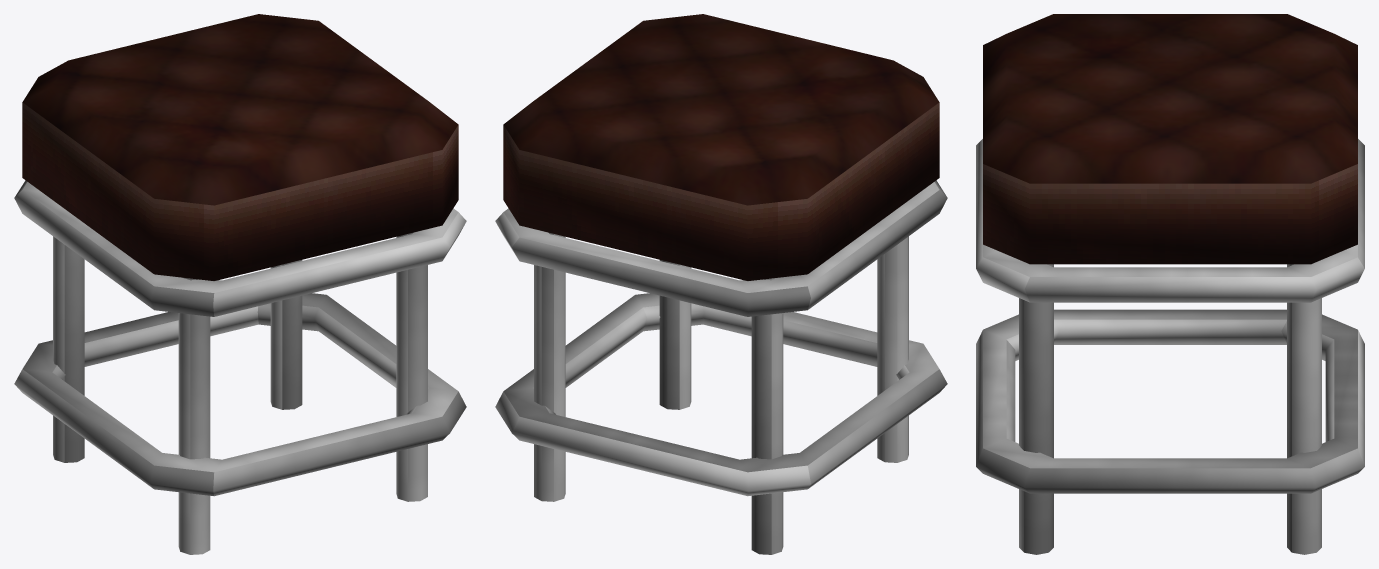
Rendered from Stool1.obj.
The picture shows the model from 3 angles, left to right: view 1: azimuth 30°, elevation 25°; view 2: azimuth 150°, elevation 25°; view 3: azimuth 270°, elevation 25°; orthographic projection. The views are drawn at different scales.
Visible parts, largest first — view 1: Stool1_SELECT.002; view 2: Stool1_SELECT.002; view 3: Stool1_SELECT.002.
Part boxes in pixels (x1=…): Stool1_SELECT.002: x1=14, y1=14, x2=466, y2=554; Stool1_SELECT.002: x1=495, y1=14, x2=947, y2=554; Stool1_SELECT.002: x1=976, y1=14, x2=1364, y2=554.
Bounding box in the file's own units: 33.2 × 38.4 × 33.2.
